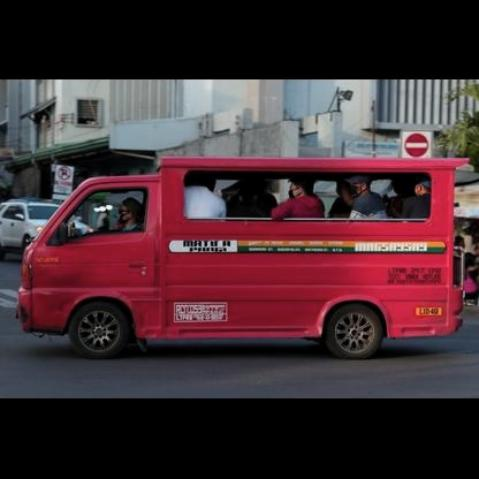jeepney: (18, 152, 466, 363)
